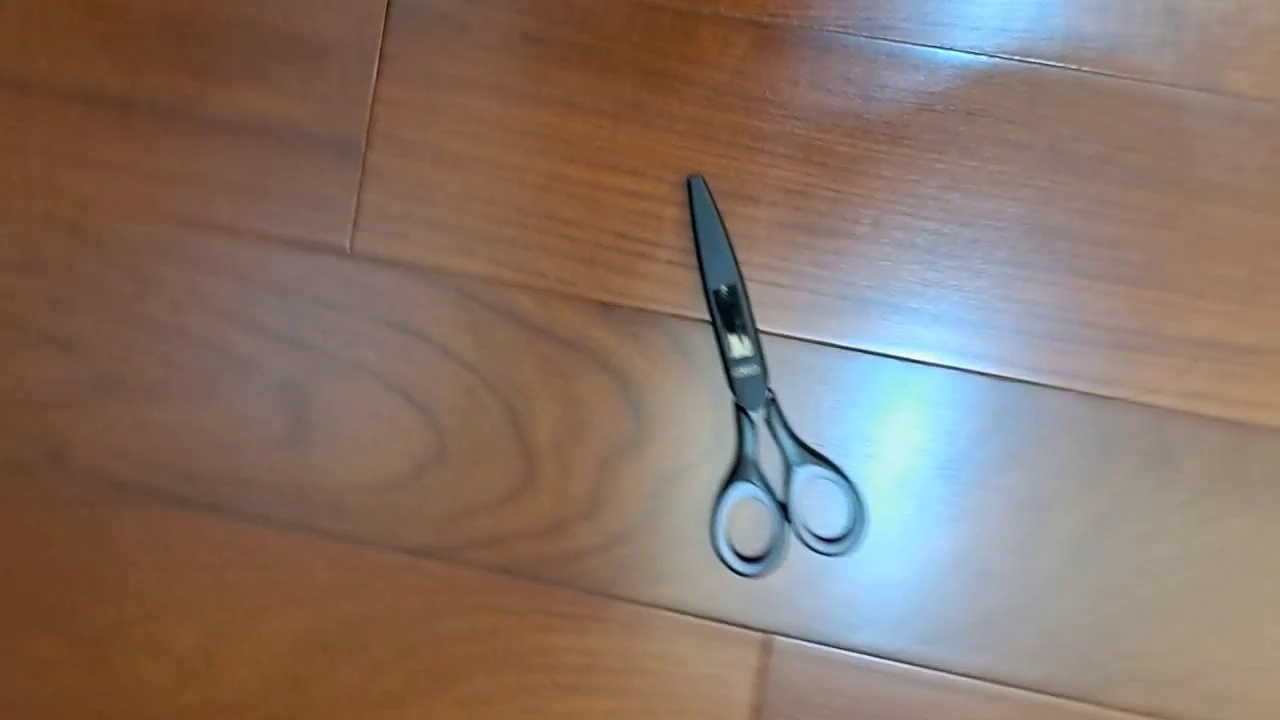scissors: (684, 172, 870, 579)
